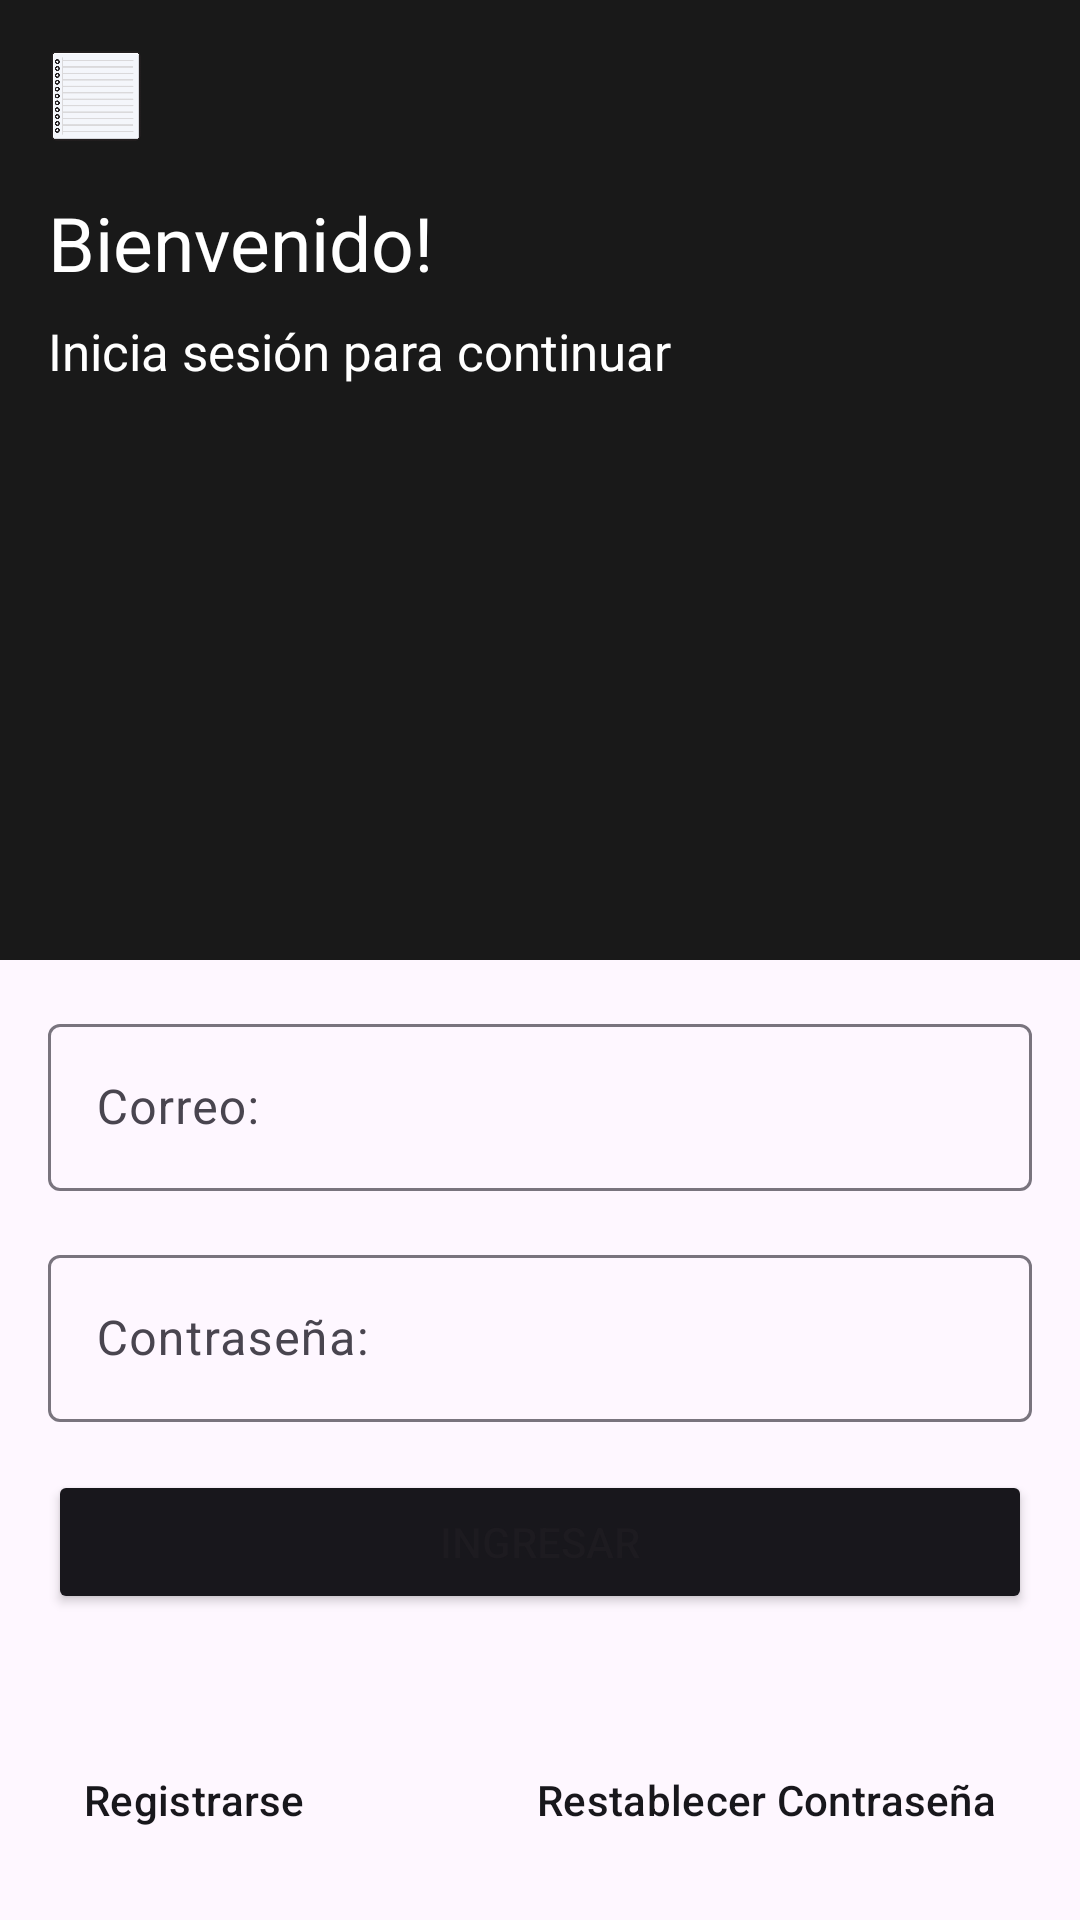

Screen size 1080 × 1920. Icon name, then its box in pixels as box=[x1, y1, x2, y2]:
notebook: box=[53, 53, 139, 139]
